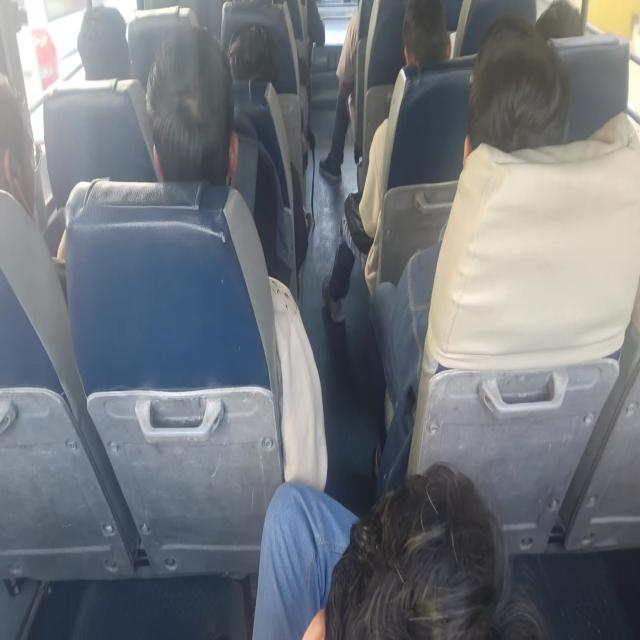person: (296, 488, 552, 640), (142, 30, 240, 210), (462, 28, 568, 159), (0, 68, 51, 214), (384, 0, 458, 84), (72, 12, 130, 90), (223, 24, 277, 91), (527, 0, 588, 50)
